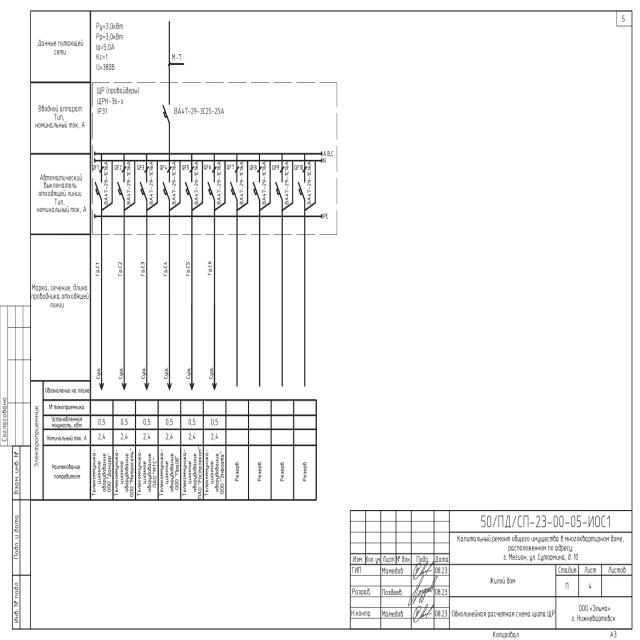-: (174, 105, 224, 118), (96, 95, 125, 116), (148, 161, 154, 207), (193, 160, 199, 206), (306, 160, 312, 206), (216, 160, 222, 206), (126, 160, 132, 206), (238, 161, 244, 206), (284, 159, 289, 205), (172, 160, 177, 206), (261, 160, 266, 206), (104, 160, 109, 205)
QF: (117, 164, 127, 202), (184, 165, 194, 202), (207, 165, 217, 202), (230, 165, 240, 202), (297, 166, 307, 203), (162, 165, 172, 202), (252, 165, 262, 202), (94, 165, 104, 202), (139, 165, 149, 202), (274, 166, 284, 203), (161, 102, 173, 125)
